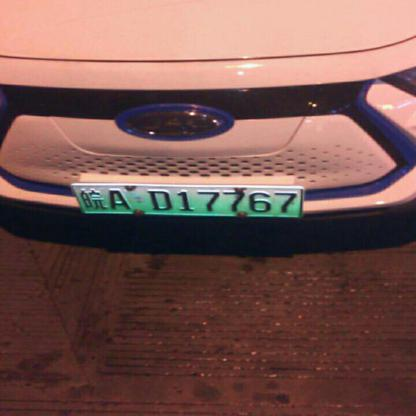lp: (72, 184, 302, 216)
